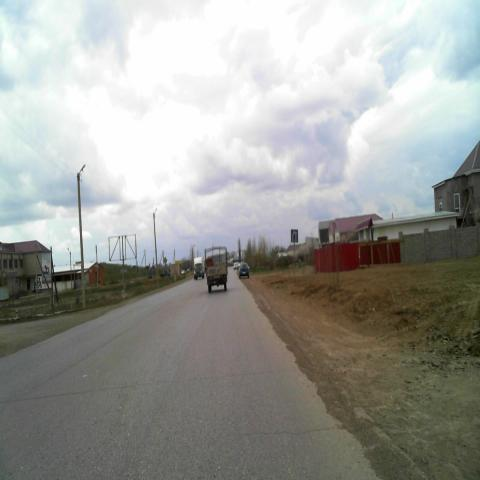5_15_5: (291, 228, 299, 244)
